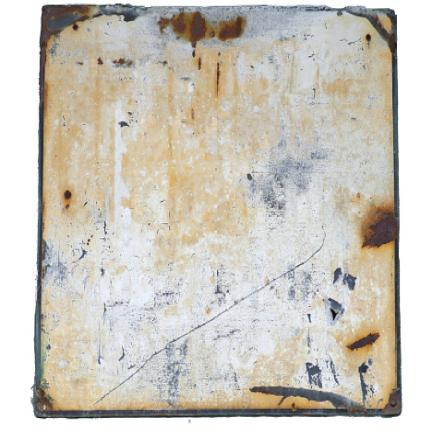karat: (158, 12, 246, 49), (250, 387, 359, 408), (362, 214, 397, 247), (348, 333, 379, 350), (64, 191, 71, 199)
